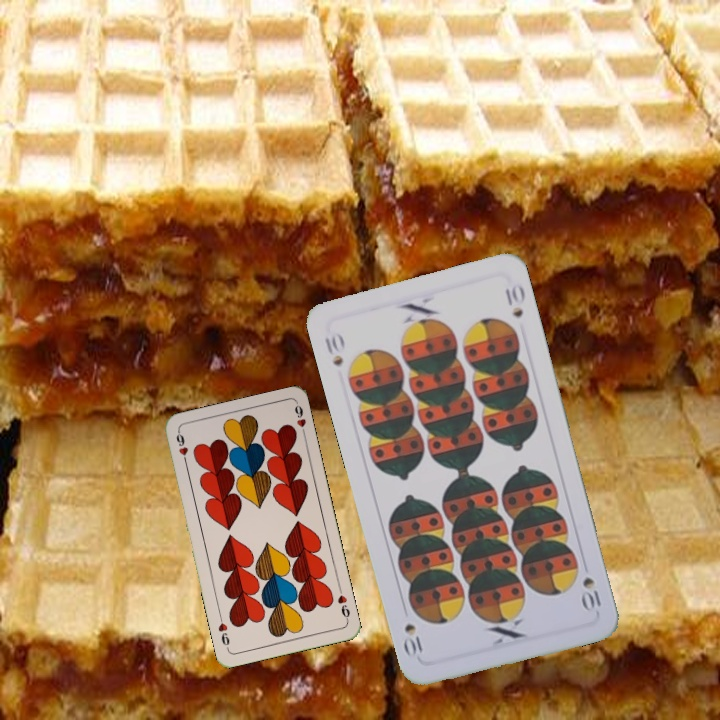H9: (333, 584, 352, 624), (172, 428, 191, 468)
S10: (320, 328, 347, 369), (578, 572, 604, 614)
